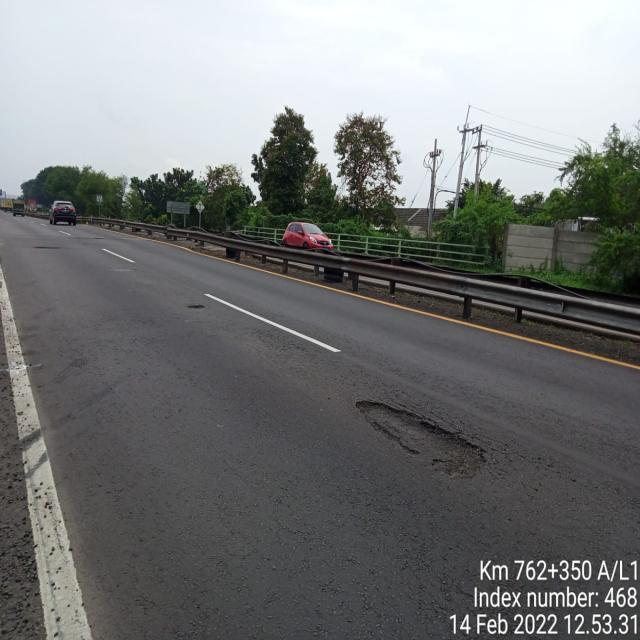Buraco: (352, 398, 490, 482), (184, 302, 208, 310)
